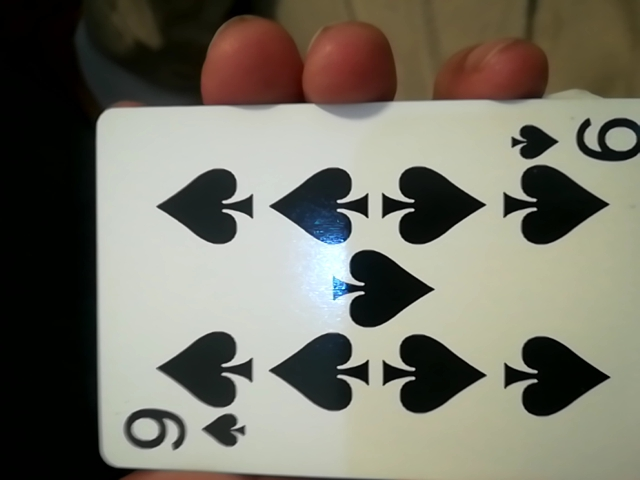ht 9: (76, 101, 632, 478)
